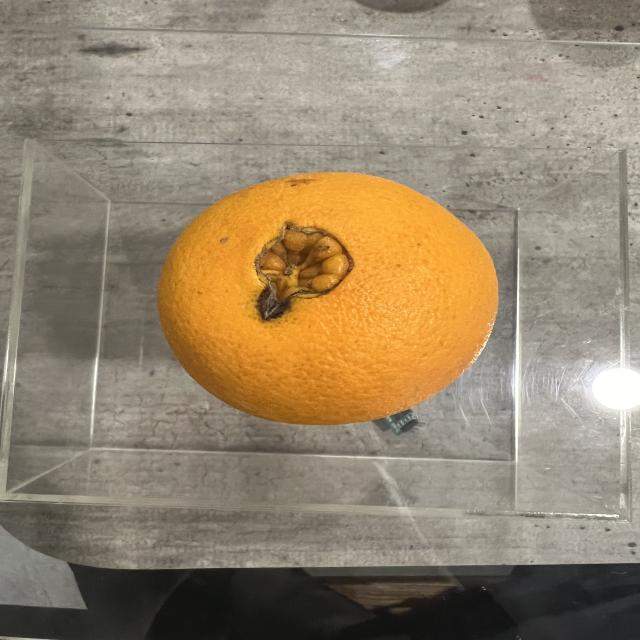navel orange: (155, 169, 501, 422)
